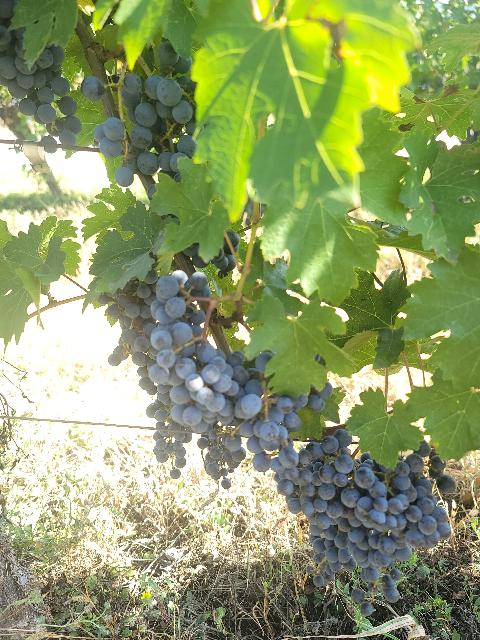grapes: (322, 441, 456, 618), (131, 270, 261, 426), (281, 429, 354, 588), (115, 42, 196, 184)
